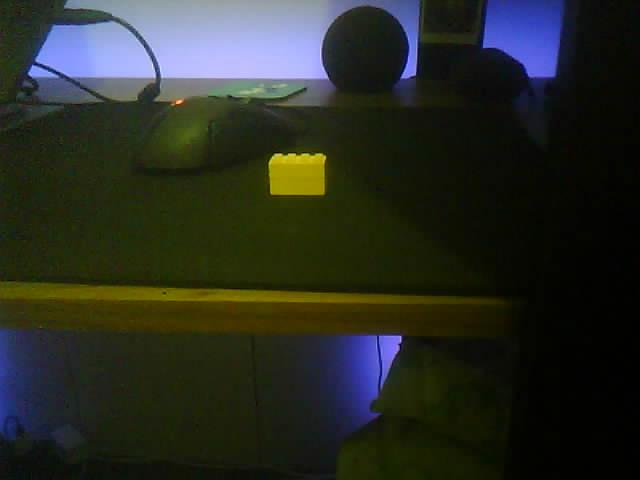lego: (268, 152, 328, 196)
